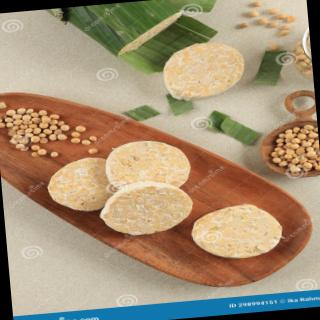Tempe: (45, 1, 224, 84), (161, 40, 249, 105)
